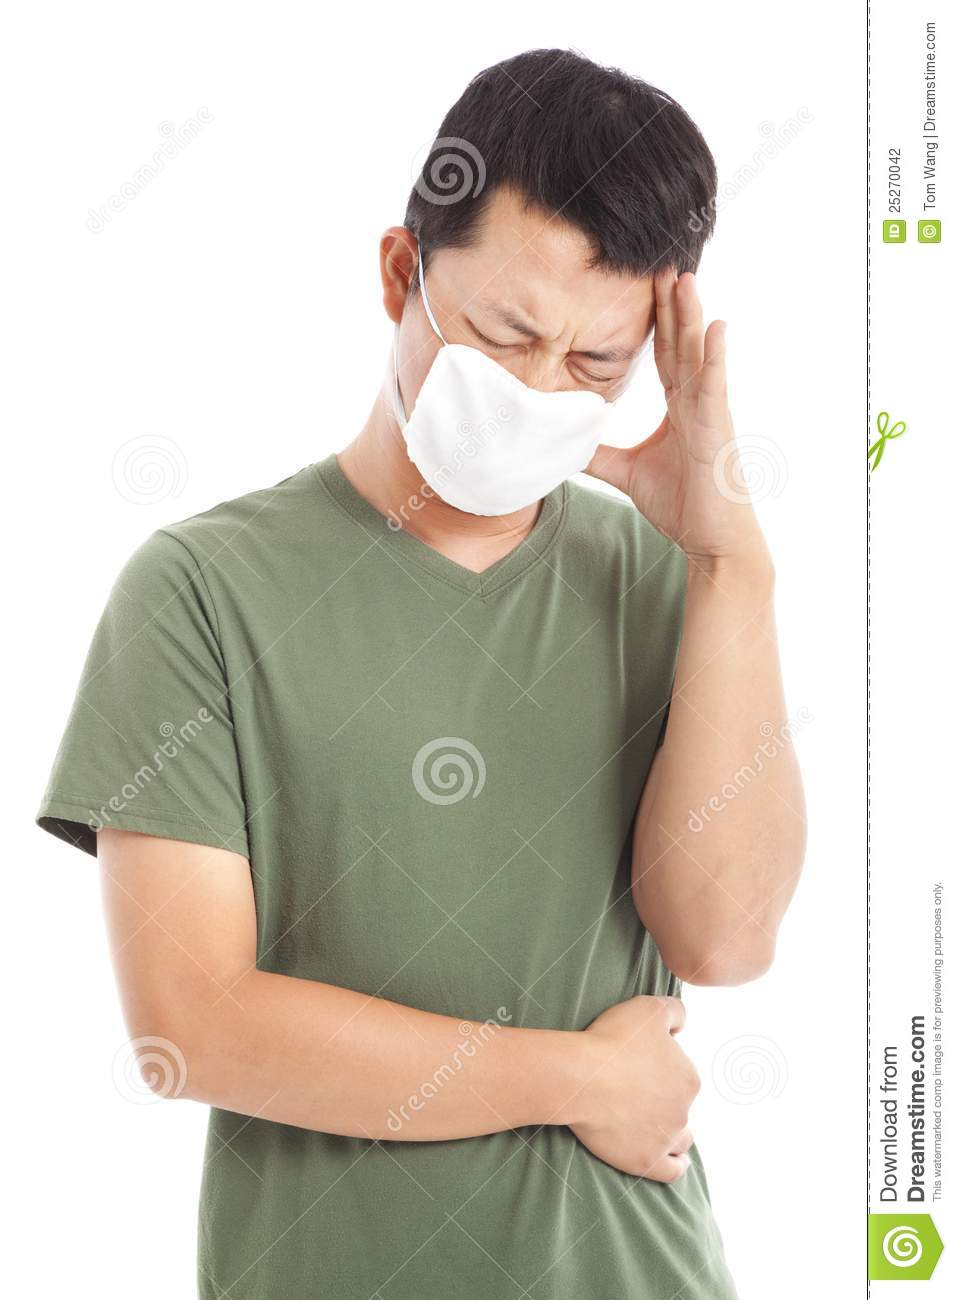mask: (424, 345, 644, 529)
